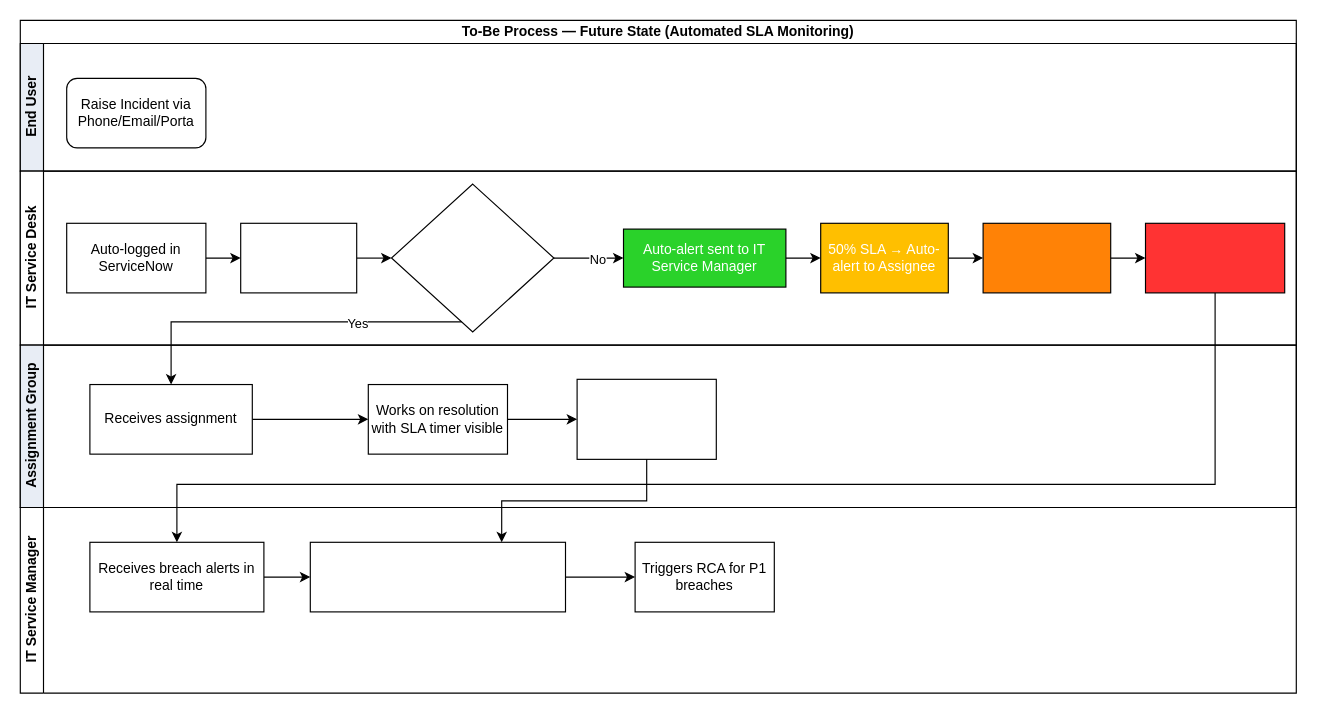
This 1317x713 diagram has some shape labels left out. The centre of each missing label's shape, as x and y in pixels:
100% Breach → Escalate to Manager: the point at 1214,257
75% SLA → Auto-alert to Team Leader: the point at 1046,257
Auto-priority assigned (P1-P4): the point at 298,257
Resolves incident: the point at 646,418
Reviews live Power BI dashboard: the point at 437,576
Unassigned? → Auto-alert after 2hrs: the point at 472,257
